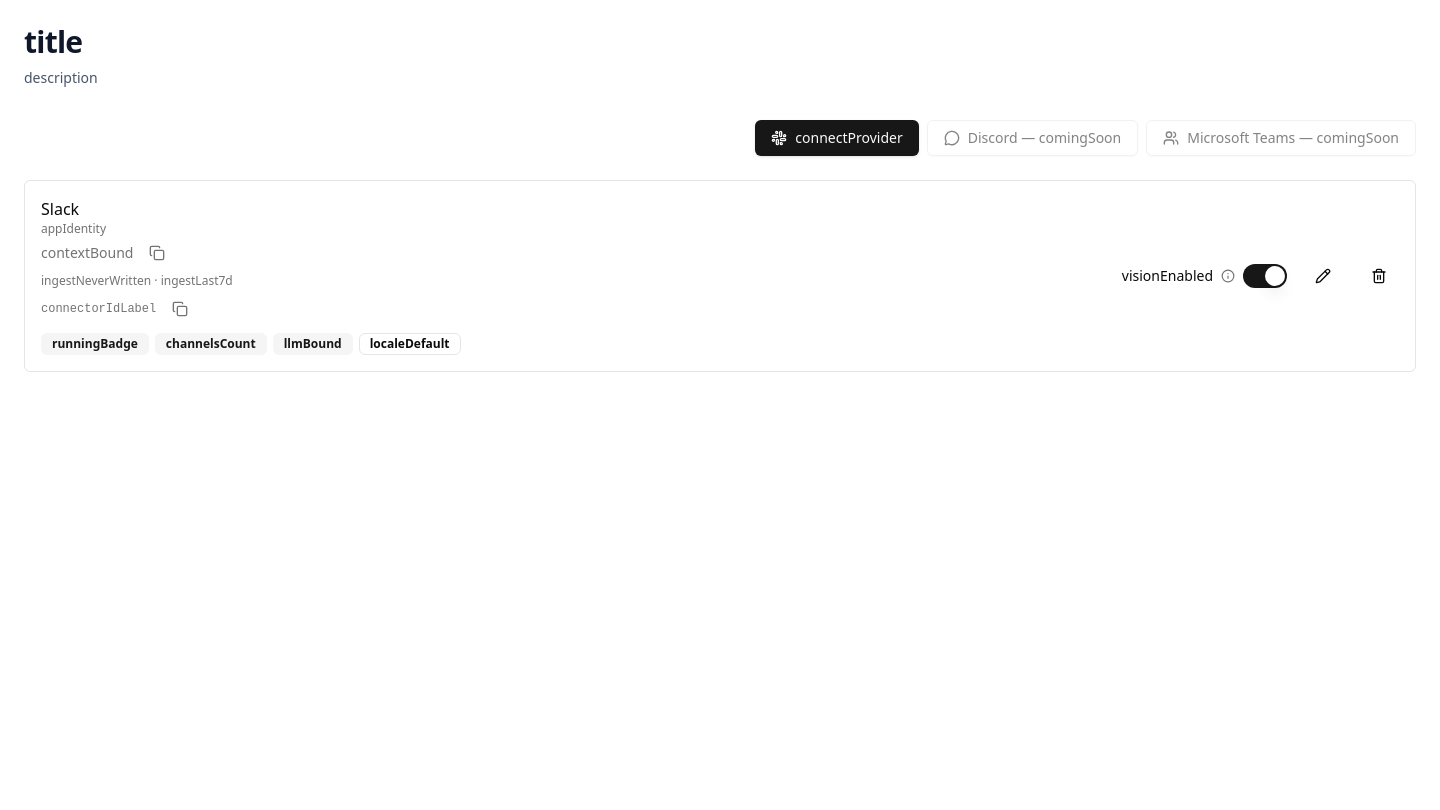
Test: ConnectorsPage RBAC gate › managed mode hides the BYO form and drops the LLM requirement (#1426)
This screenshot has width=1440, height=810.
Expected: the button "connectProvider" is shown, [755,120,919,156]
Expected: the text "runningBadge" is shown, [41,333,149,355]
Settings dialog shows the platform-managed LLM note, not the LLM inputs.
Step 1. Click the button named "editSettings" → (1323, 276), box [1303,260,1343,292]
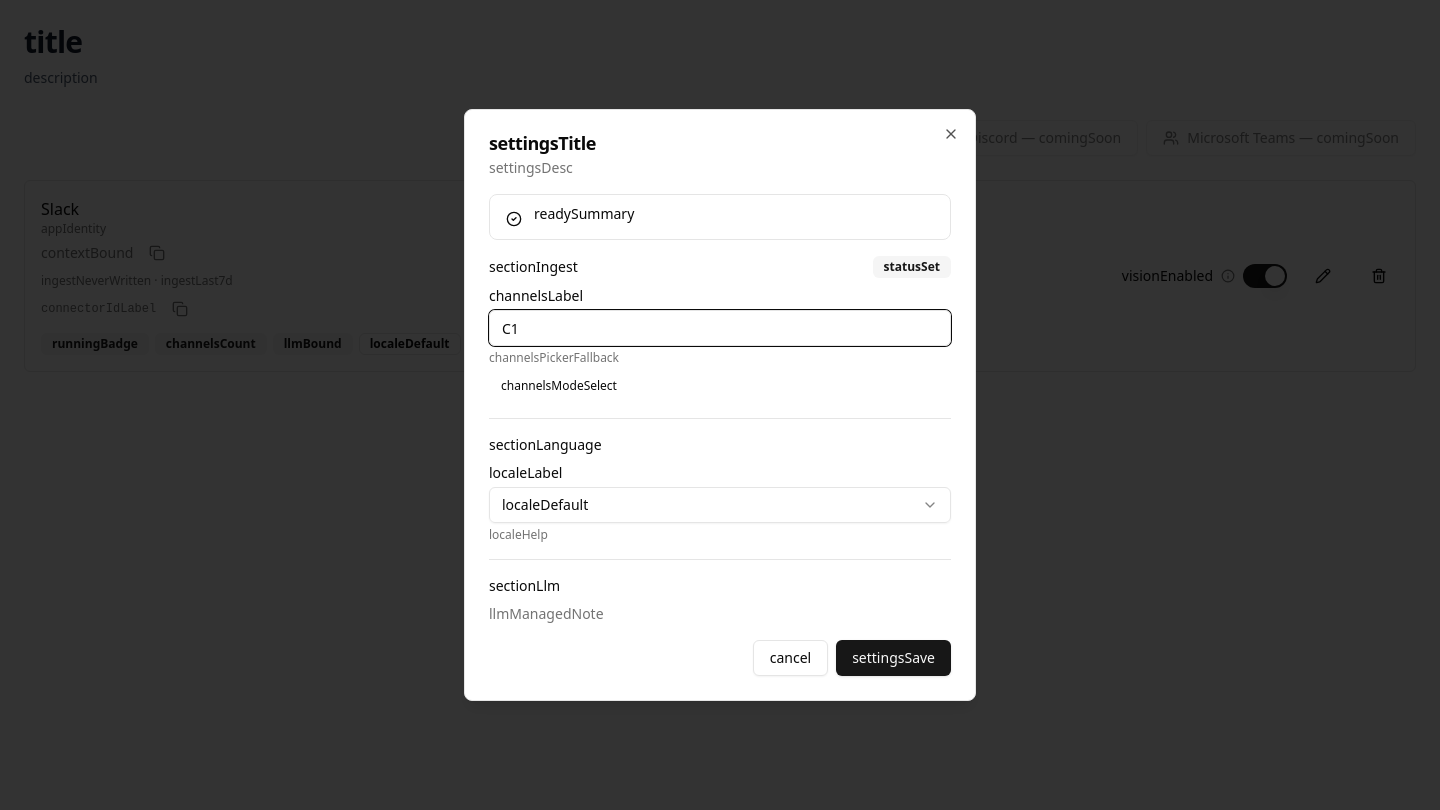
Expected: the text "llmManagedNote" is shown, [489,604,604,623]
